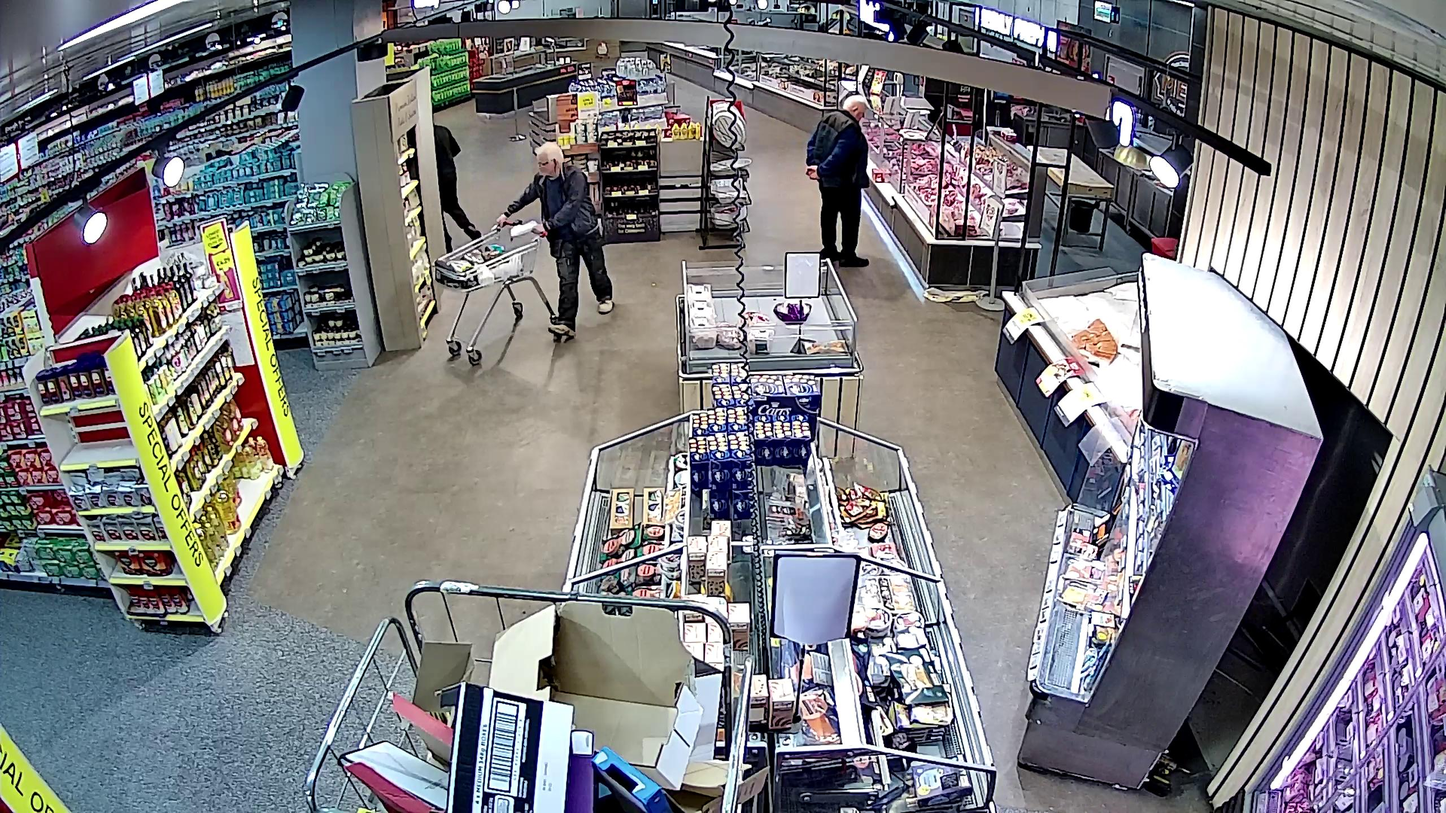filled-trolly: (434, 220, 557, 365)
person: (497, 141, 613, 335)
person-with-filled-basket-trolly: (434, 141, 612, 366)
